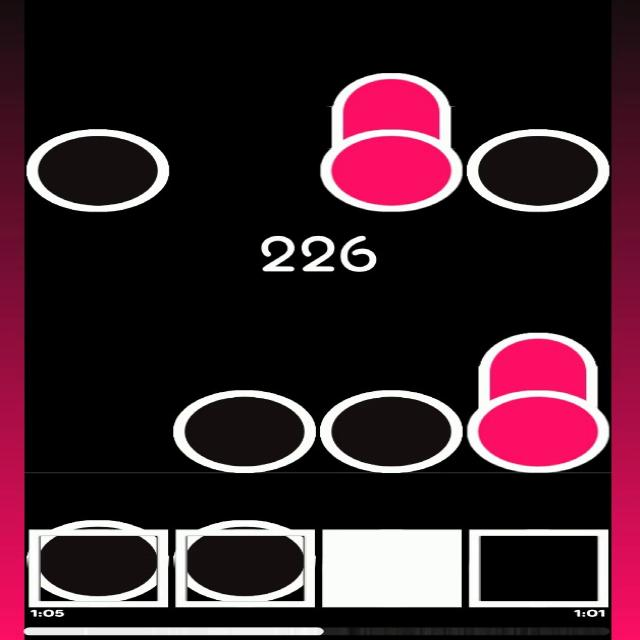end_hold: (329, 69, 454, 110), (478, 332, 602, 367)
note: (25, 128, 170, 214), (172, 390, 317, 475), (466, 130, 610, 214), (319, 390, 464, 472), (26, 519, 165, 602), (175, 520, 310, 601)
start_hold: (469, 378, 610, 473), (321, 119, 462, 212)
